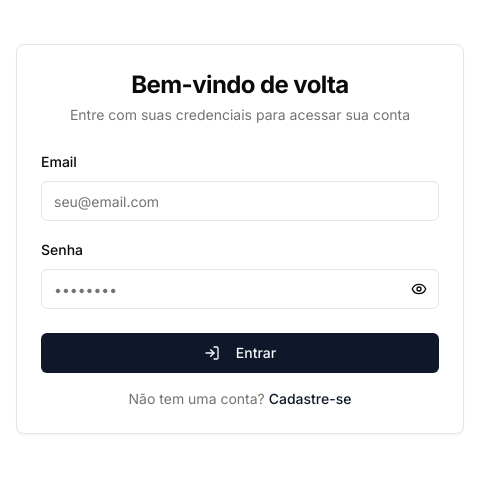
Test: LoginPage › should validate email field
Type "invalid-email" into the field labelled "Email" at {"x": 240, "y": 201}, box [41, 181, 439, 221]
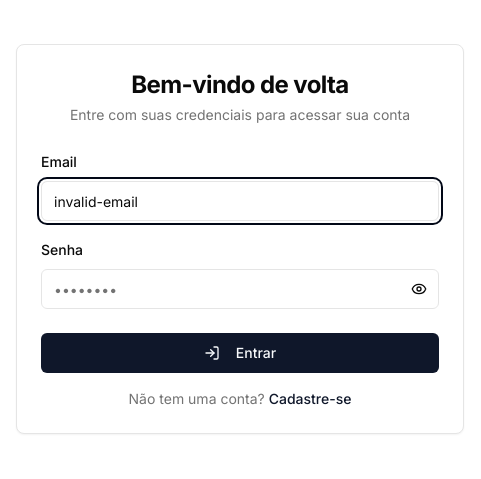
Click the button "Entrar" at {"x": 240, "y": 353}, box [41, 333, 439, 373]
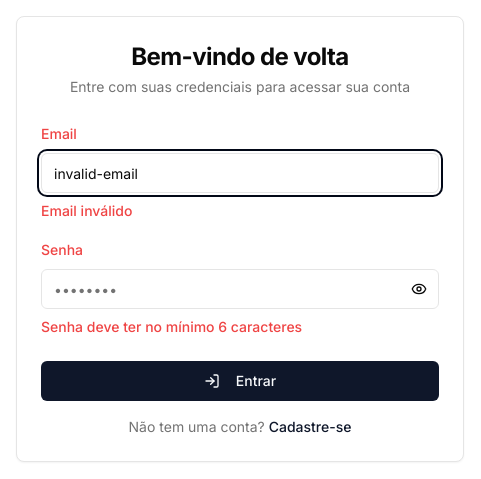
Check: the text "Email inválido" is shown, box [41, 202, 132, 219]
